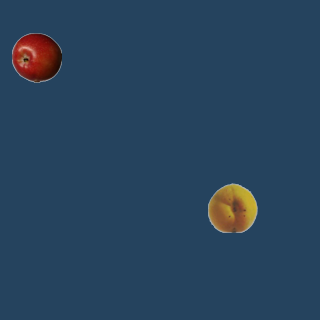Apple Braeburn: (11, 32, 61, 82)
Peach 2: (207, 182, 257, 232)
